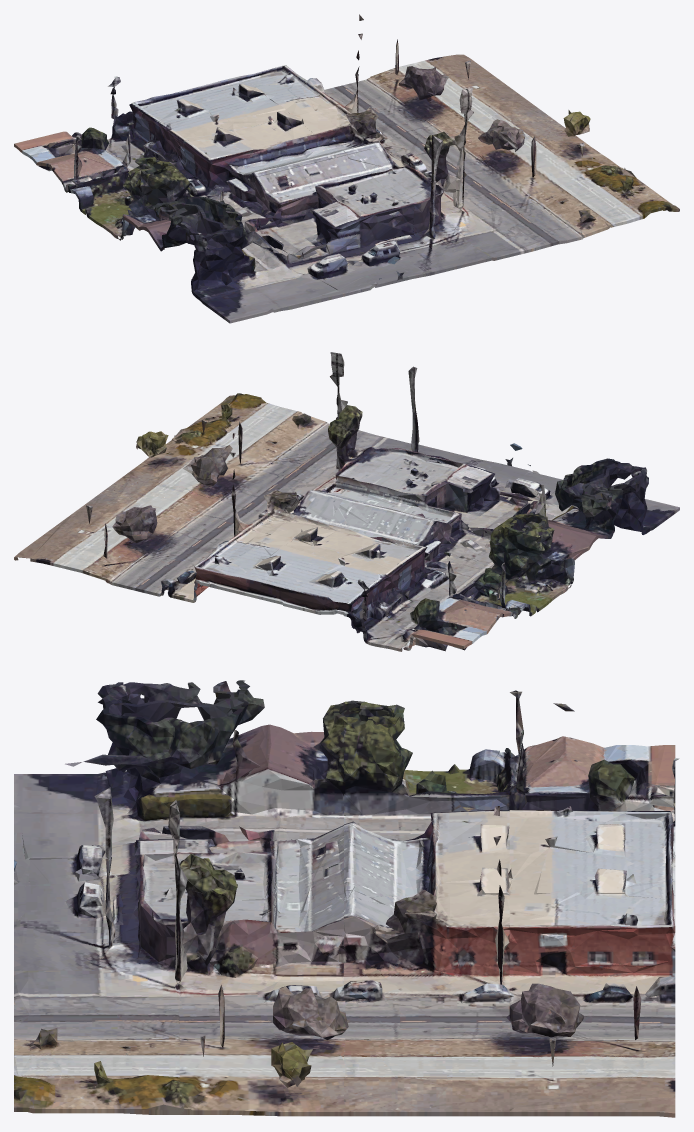
The model's file is nsl_old_small.gltf.
3 views of the same model, one above another, from view 1: azimuth 30°, elevation 25°; view 2: azimuth 150°, elevation 25°; view 3: azimuth 270°, elevation 25° (orthographic). The views are drawn at different scales.
Parts seen in each view (by area): view 1: BuildingMesh-00078; view 2: BuildingMesh-00078; view 3: BuildingMesh-00078.
Part boxes in pixels (x1=…): BuildingMesh-00078: x1=14, y1=14, x2=679, y2=323; BuildingMesh-00078: x1=14, y1=352, x2=679, y2=651; BuildingMesh-00078: x1=14, y1=680, x2=679, y2=1117.
Bounding box in the file's own units: 1.95 × 0.5293 × 1.62.
8 materials, 8 textured.
